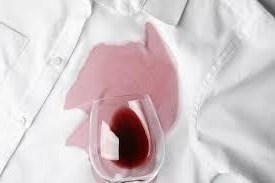wine: (67, 30, 169, 137), (83, 45, 185, 97), (67, 106, 87, 154)
